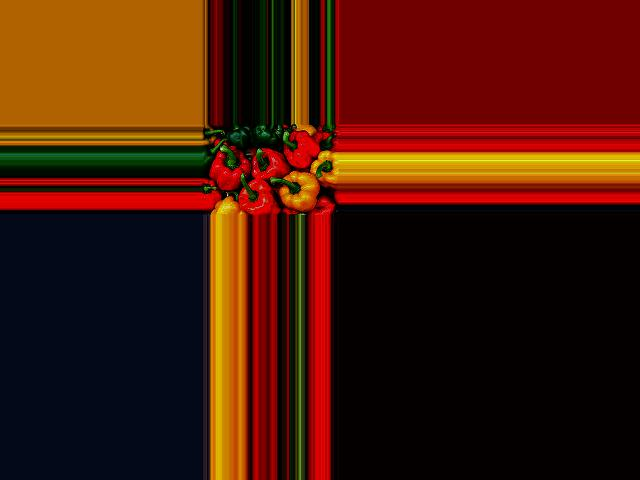bell_pepper: (215, 197, 238, 215)
